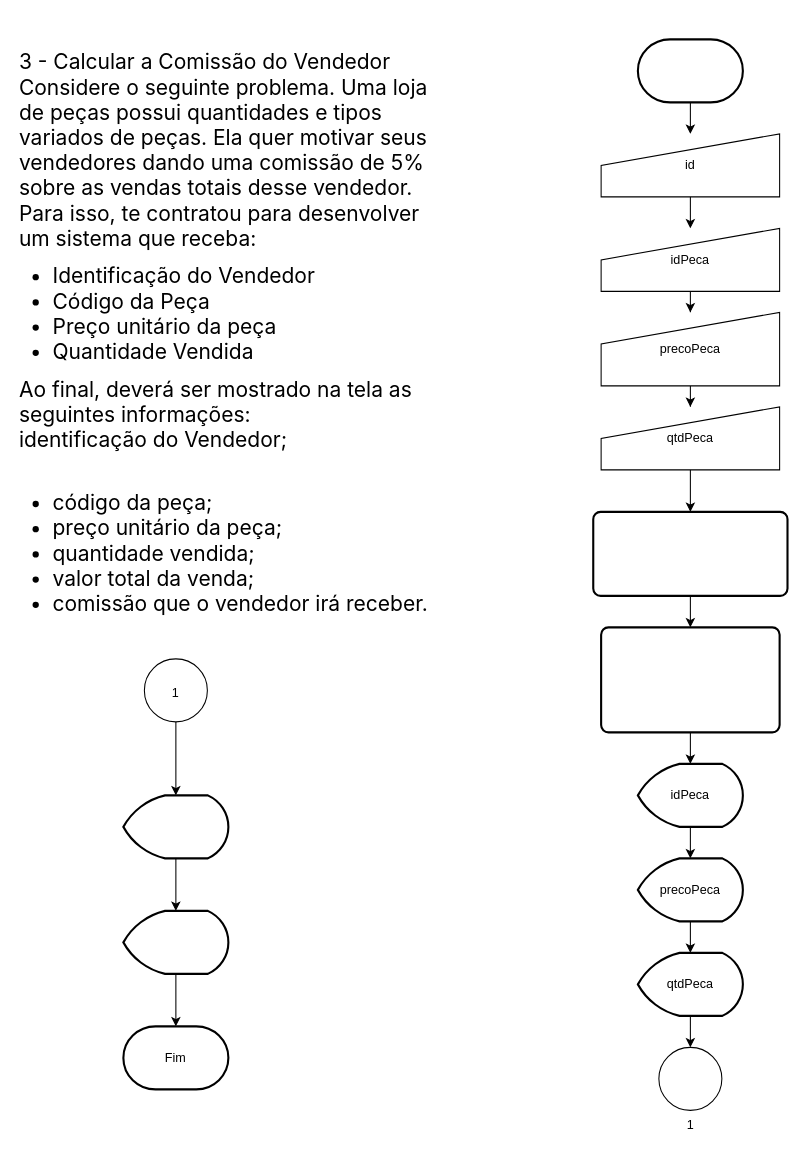
This 806x1150 diagram has some shape labels left out. The shapes that lost their labels are listed below. From the top down, each one's centre as x and y in pixels, then its label:
the point at 689,70: Início
the point at 690,553: total <- precoPeca * qtdPeca
the point at 690,679: comissao <- total * 0.05
the point at 175,826: total
the point at 175,941: comissao
